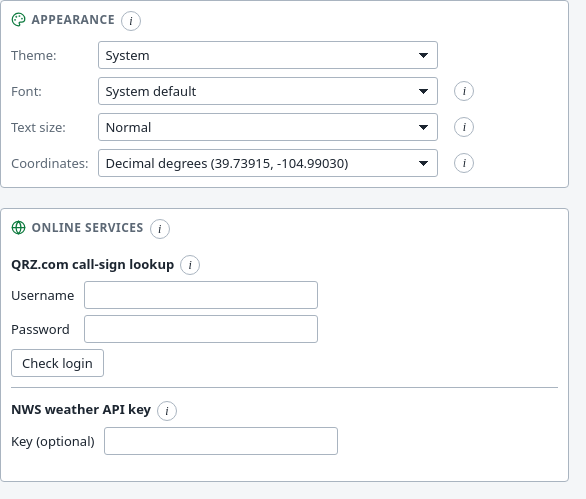
Test: SettingsTab (SET-020) › checks the QRZ login, saving it first, and says how it went
Expected: the button "Check login" is disabled, [11,350,104,378]
In the field named "QRZ username": (201, 296) [84,282,318,310], type "W0LAB"
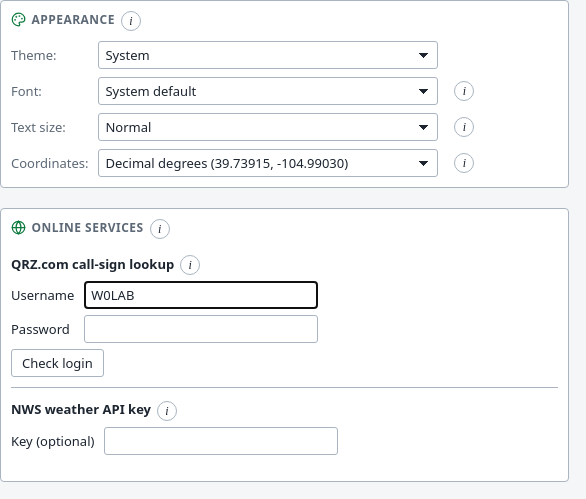
In the password field named "QRZ password": (201, 330) [84,316,318,344], type "secret"
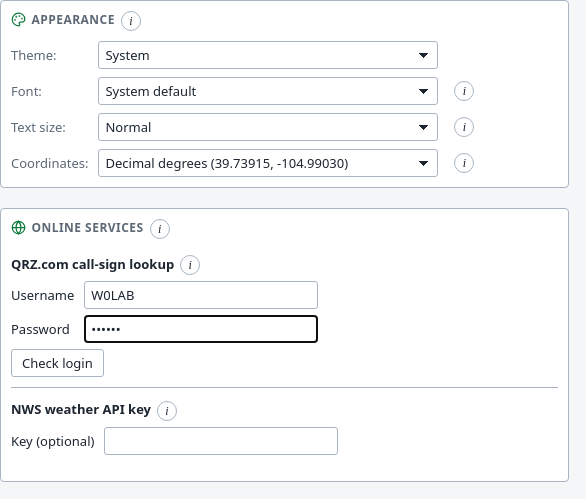
Click the button "Check login": (57, 364) [11,350,104,378]
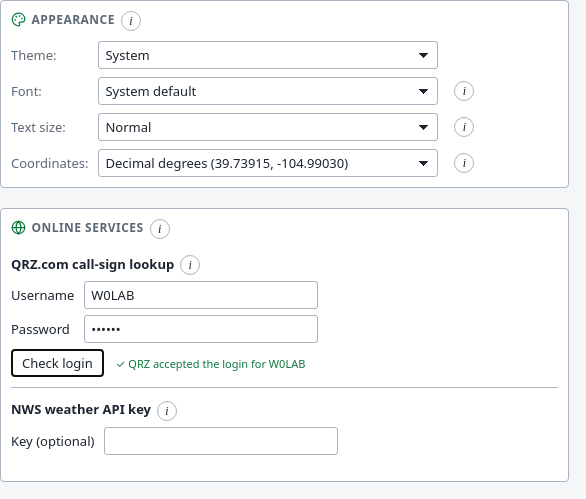
Expected: the text "✓ QRZ accepted the login for W0LAB" is shown, [116,356,305,371]
Click the button "Check login": (57, 364) [11,350,104,378]
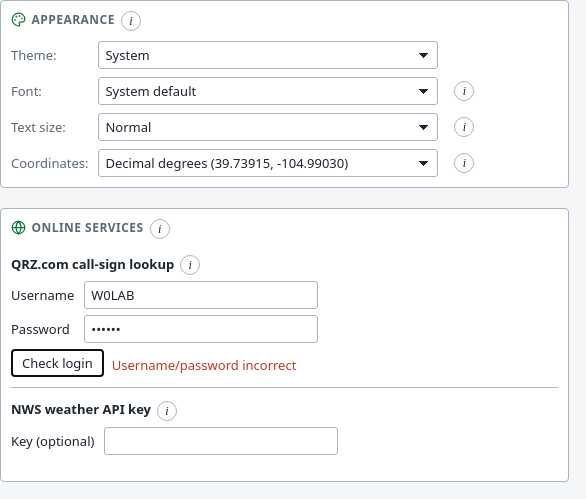
Expected: the text "Username/password incorrect" is shown, [112,356,296,374]
